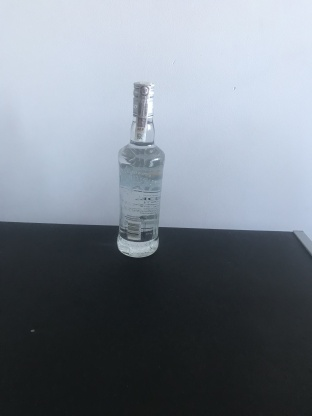nakretka: (130, 78, 156, 120)
